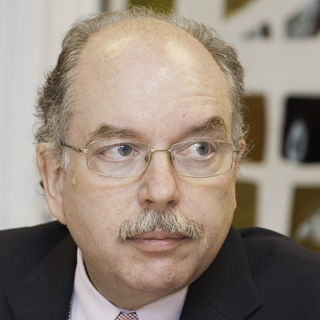eye: (96, 140, 142, 167), (174, 138, 223, 161)
